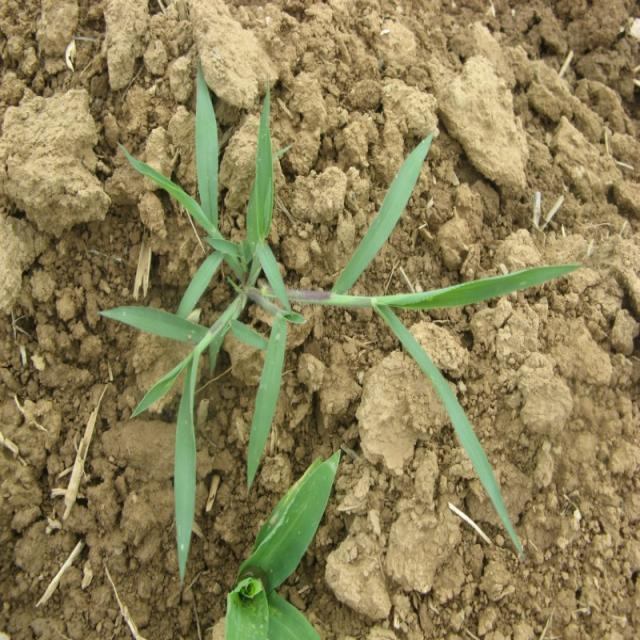bg: (100, 66, 574, 566)
